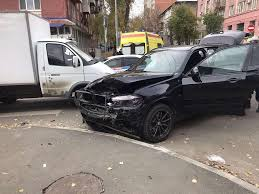car: (83, 45, 250, 136)
